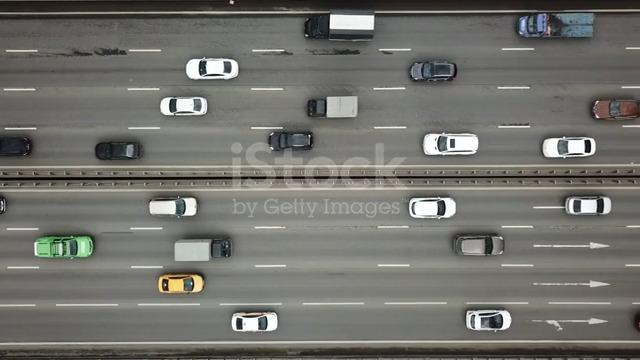Cars: (34, 235, 94, 260), (423, 132, 479, 156), (186, 57, 239, 81), (542, 136, 597, 159), (149, 196, 198, 218), (592, 99, 640, 121), (160, 96, 208, 117), (158, 273, 205, 294), (410, 61, 457, 82), (565, 195, 612, 216), (232, 311, 278, 332), (269, 131, 314, 152)
